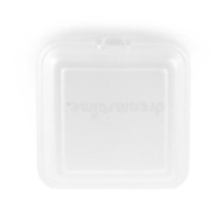foam_box: (30, 28, 199, 197)
